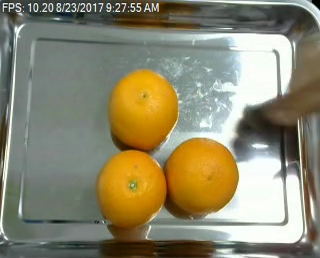Orange: (95, 148, 168, 229), (108, 69, 180, 149), (165, 138, 239, 214)
